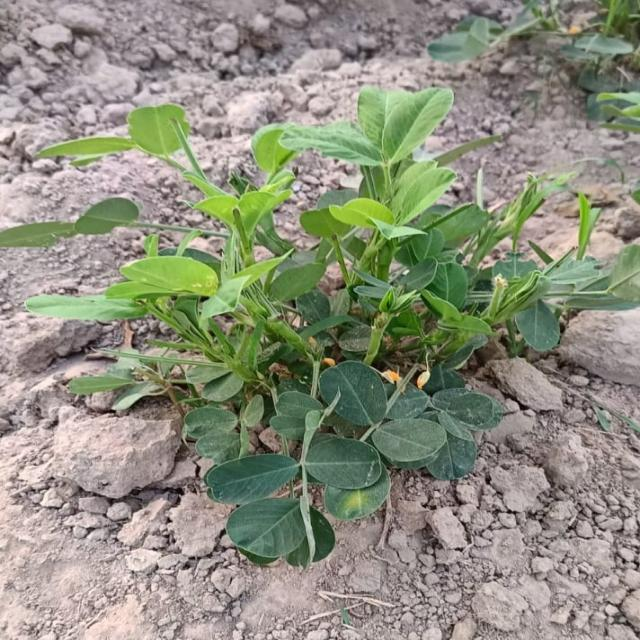plant: (2, 88, 639, 567)
